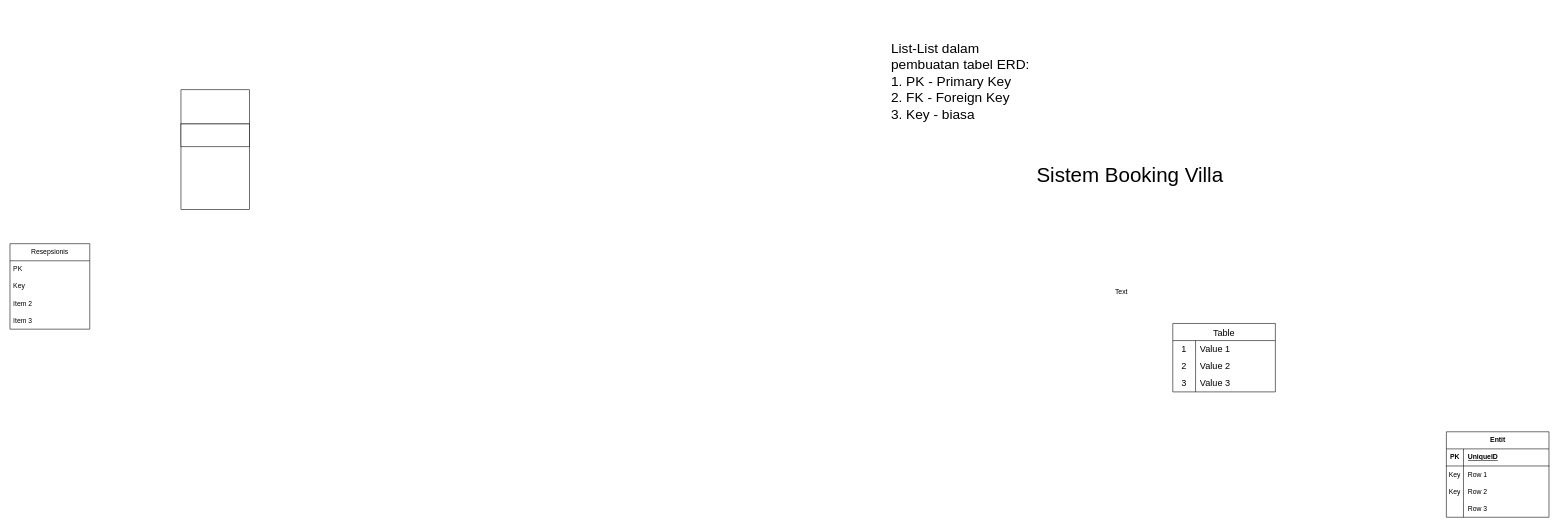
The diagram is 1559 pixels wide and 527 high, and some of its shapes have lost their labels. Each missing label, with the centre of its shape:
Keoala: point 214,135
Kepala Villa: point 214,106
